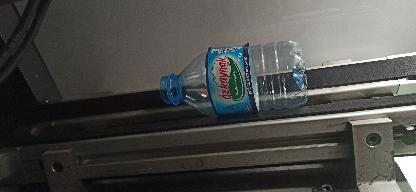Plastic Bottle: (160, 40, 308, 116)
